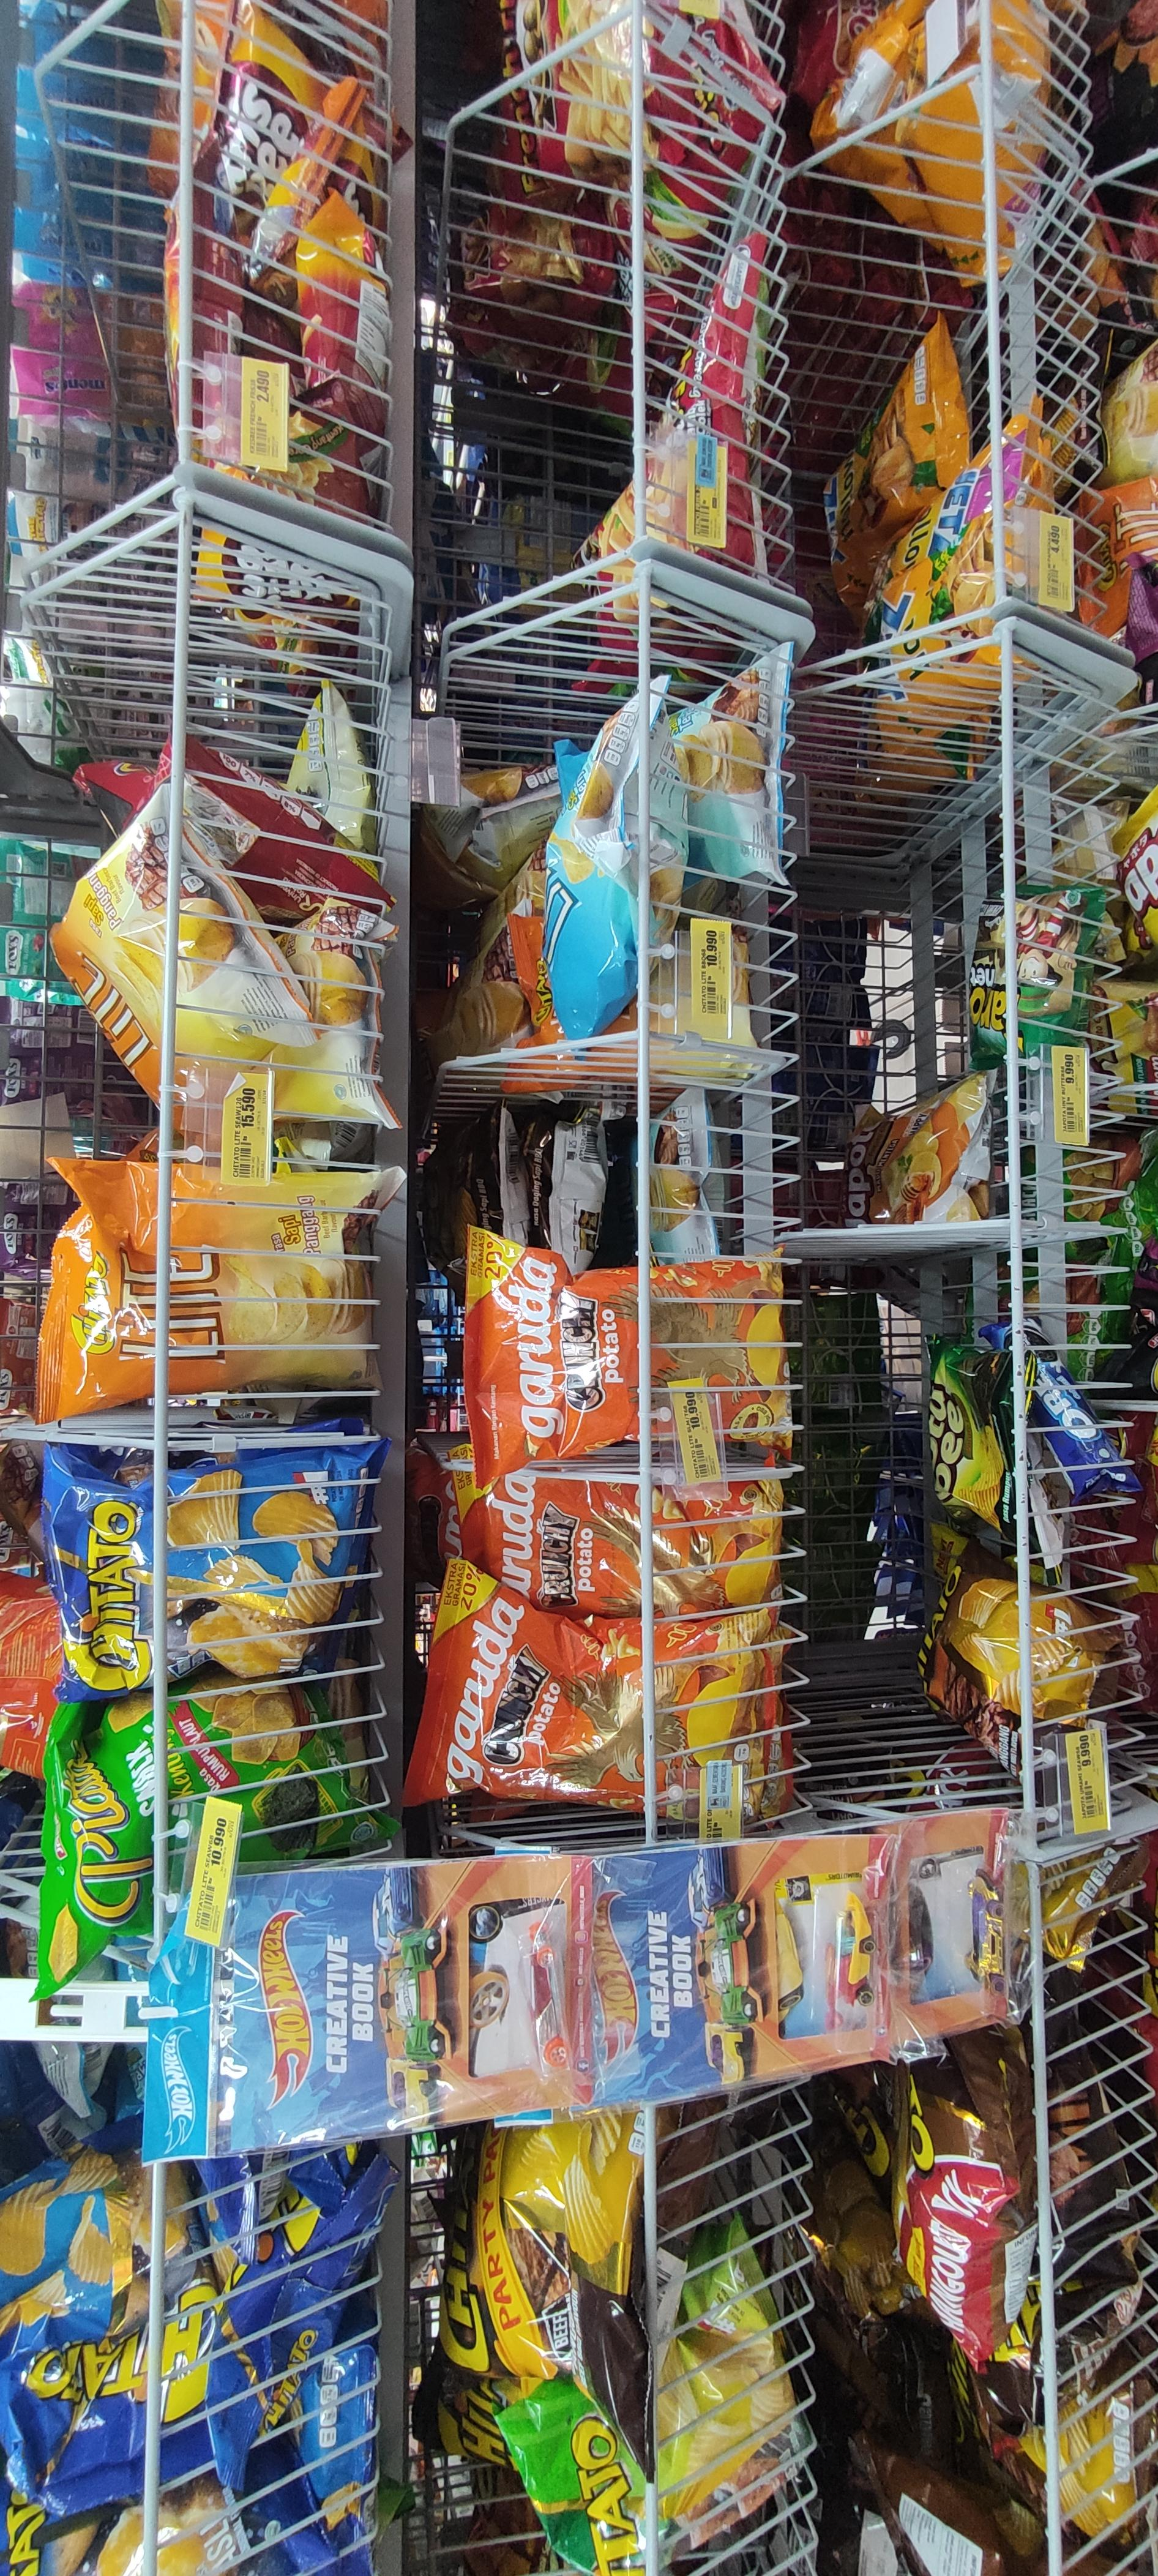90101154205100: (399, 1557, 780, 1829), (466, 1229, 788, 1485)
ChitatoLiteSapiPanggang: (36, 1157, 402, 1416)
ChitatoOriginalFlavor: (61, 1439, 383, 1695)
